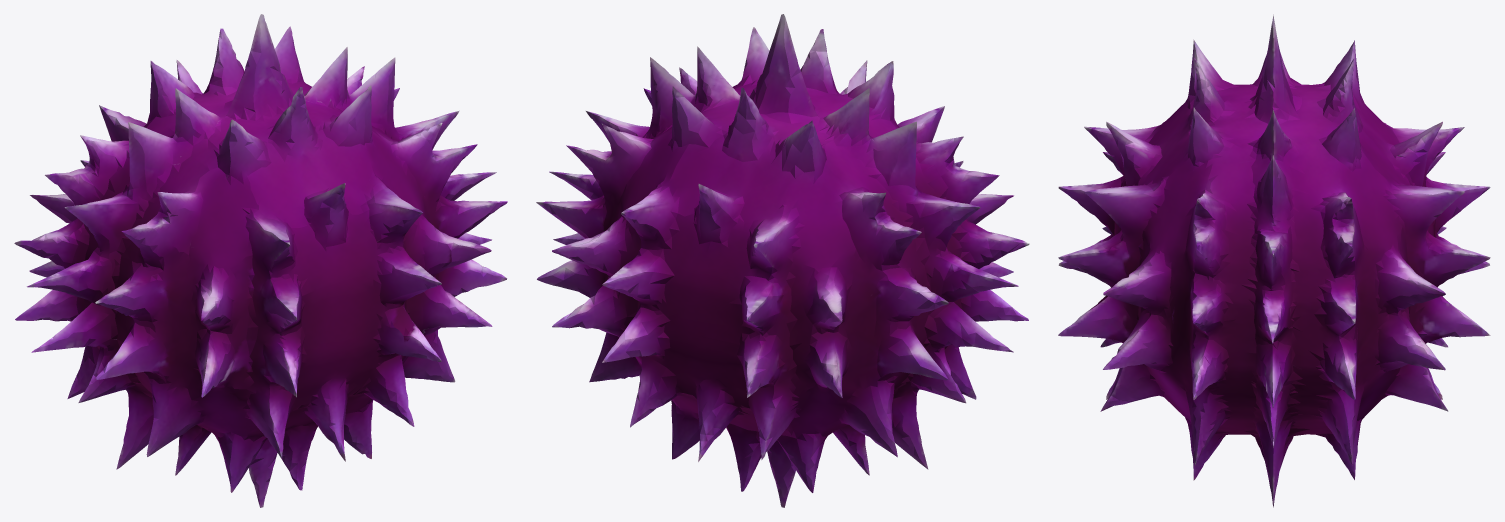
File: ocean_urchin.glb
The picture shows the model from 3 angles, left to right: view 1: azimuth 30°, elevation 25°; view 2: azimuth 150°, elevation 25°; view 3: azimuth 270°, elevation 25°; orthographic projection.
Parts seen in each view (by area): view 1: ocean_urchin; view 2: ocean_urchin; view 3: ocean_urchin.
Part boxes in pixels (x1,y1,x2,y2): ocean_urchin: [14, 14, 507, 507]; ocean_urchin: [536, 14, 1029, 507]; ocean_urchin: [1058, 14, 1490, 507].
Bounding box in the file's own units: 1.9 × 1.9 × 1.51.
1 material, 1 textured.
